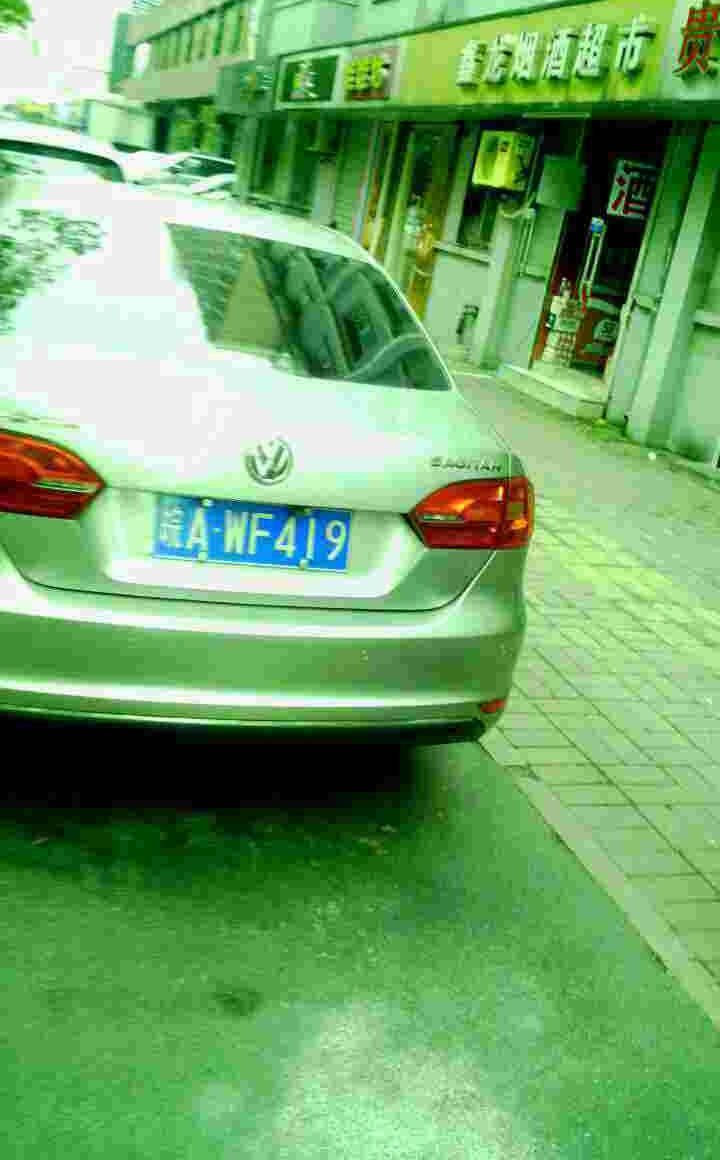license_plate: (161, 500, 356, 567)
